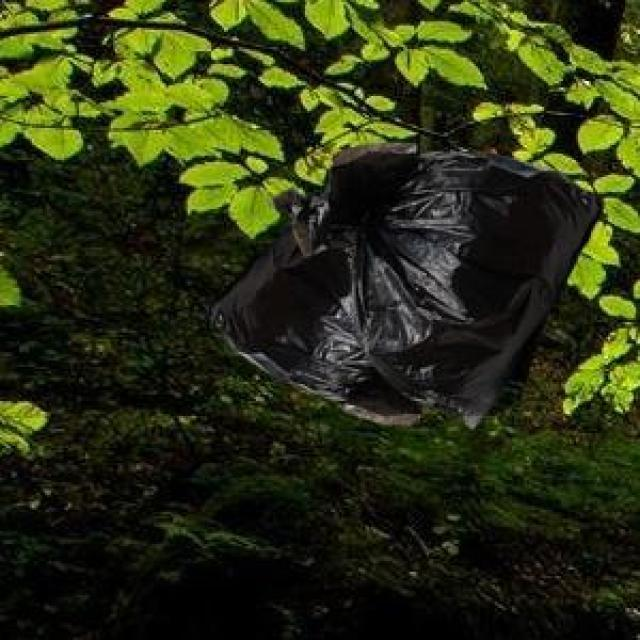Vinyl: (214, 146, 598, 424)
